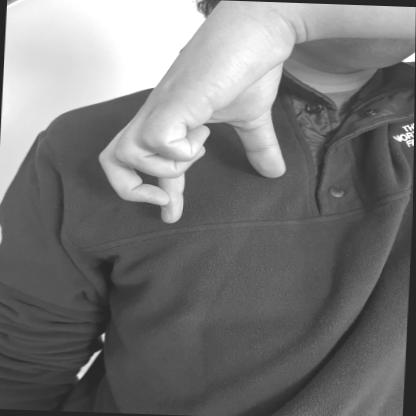P: (90, 5, 303, 232)
